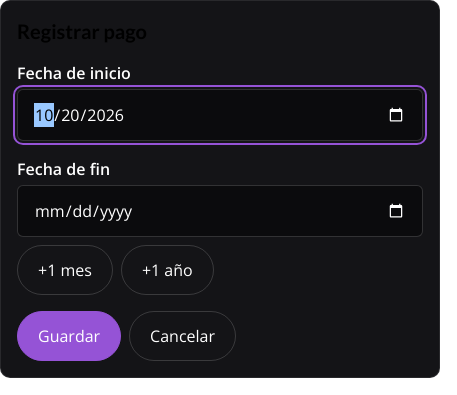
Test: PeriodForm › recording a payment › the shortcuts for the end › "+1 mes" fills the end a month after the start, the last day included
The width and height of the screenshot is (457, 395).
Click the button "+1 mes" at (65,270), box [17,245,113,295]
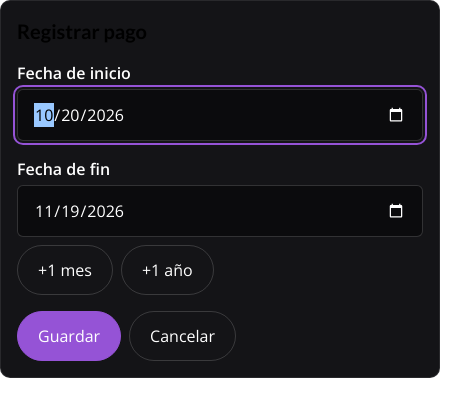
Now the date field labelled "Fecha de fin" holds "2026-11-19", box [17,185,423,237]
